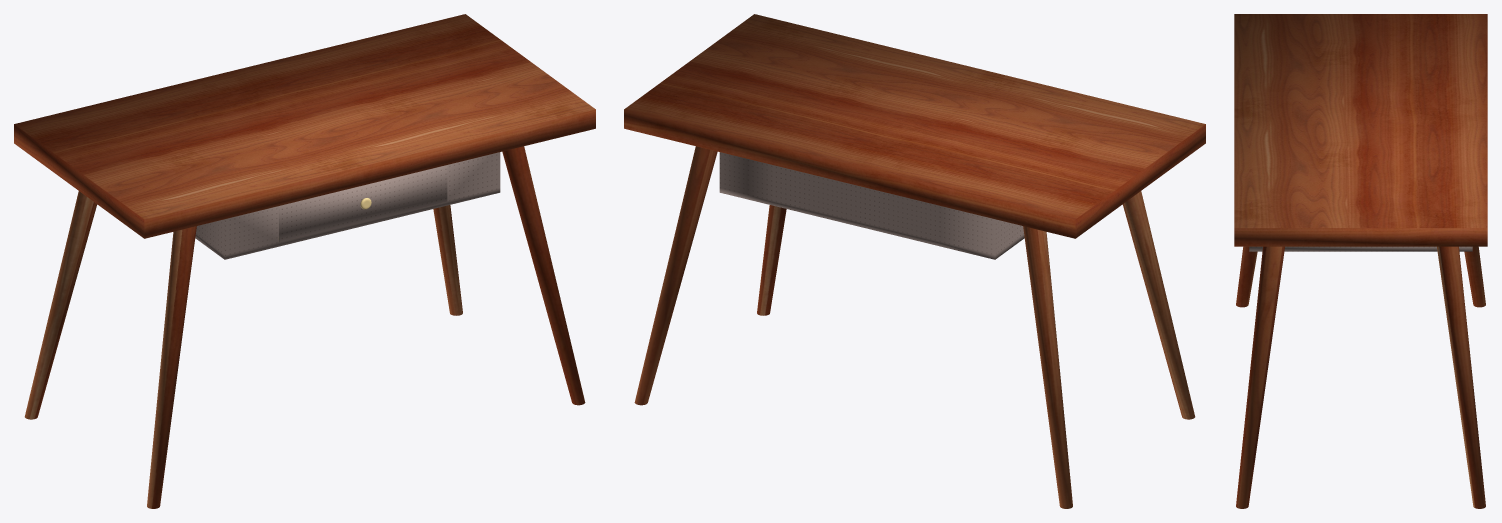
File: modern_desk.glb
3 renders of one model, left to right at view 1: azimuth 30°, elevation 25°; view 2: azimuth 150°, elevation 25°; view 3: azimuth 270°, elevation 25°, orthographic. The views are drawn at different scales.
Visible parts, largest first — view 1: table_lp; view 2: table_lp; view 3: table_lp.
Boxes of the visible parts, bbox=[...] form: table_lp: bbox=[14, 14, 595, 508]; table_lp: bbox=[624, 14, 1205, 508]; table_lp: bbox=[1234, 14, 1487, 508].
Size of the model in its own units: 122 by 75.64 by 61.
1 material, 1 textured.
